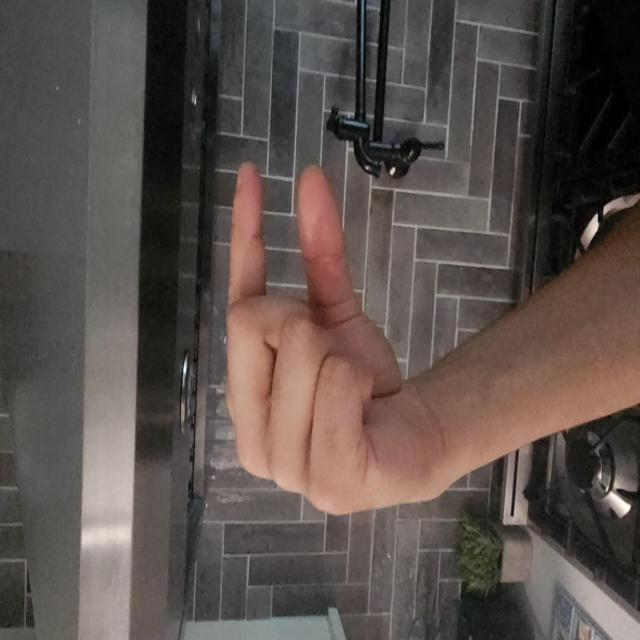Q: (89, 295, 362, 609)
